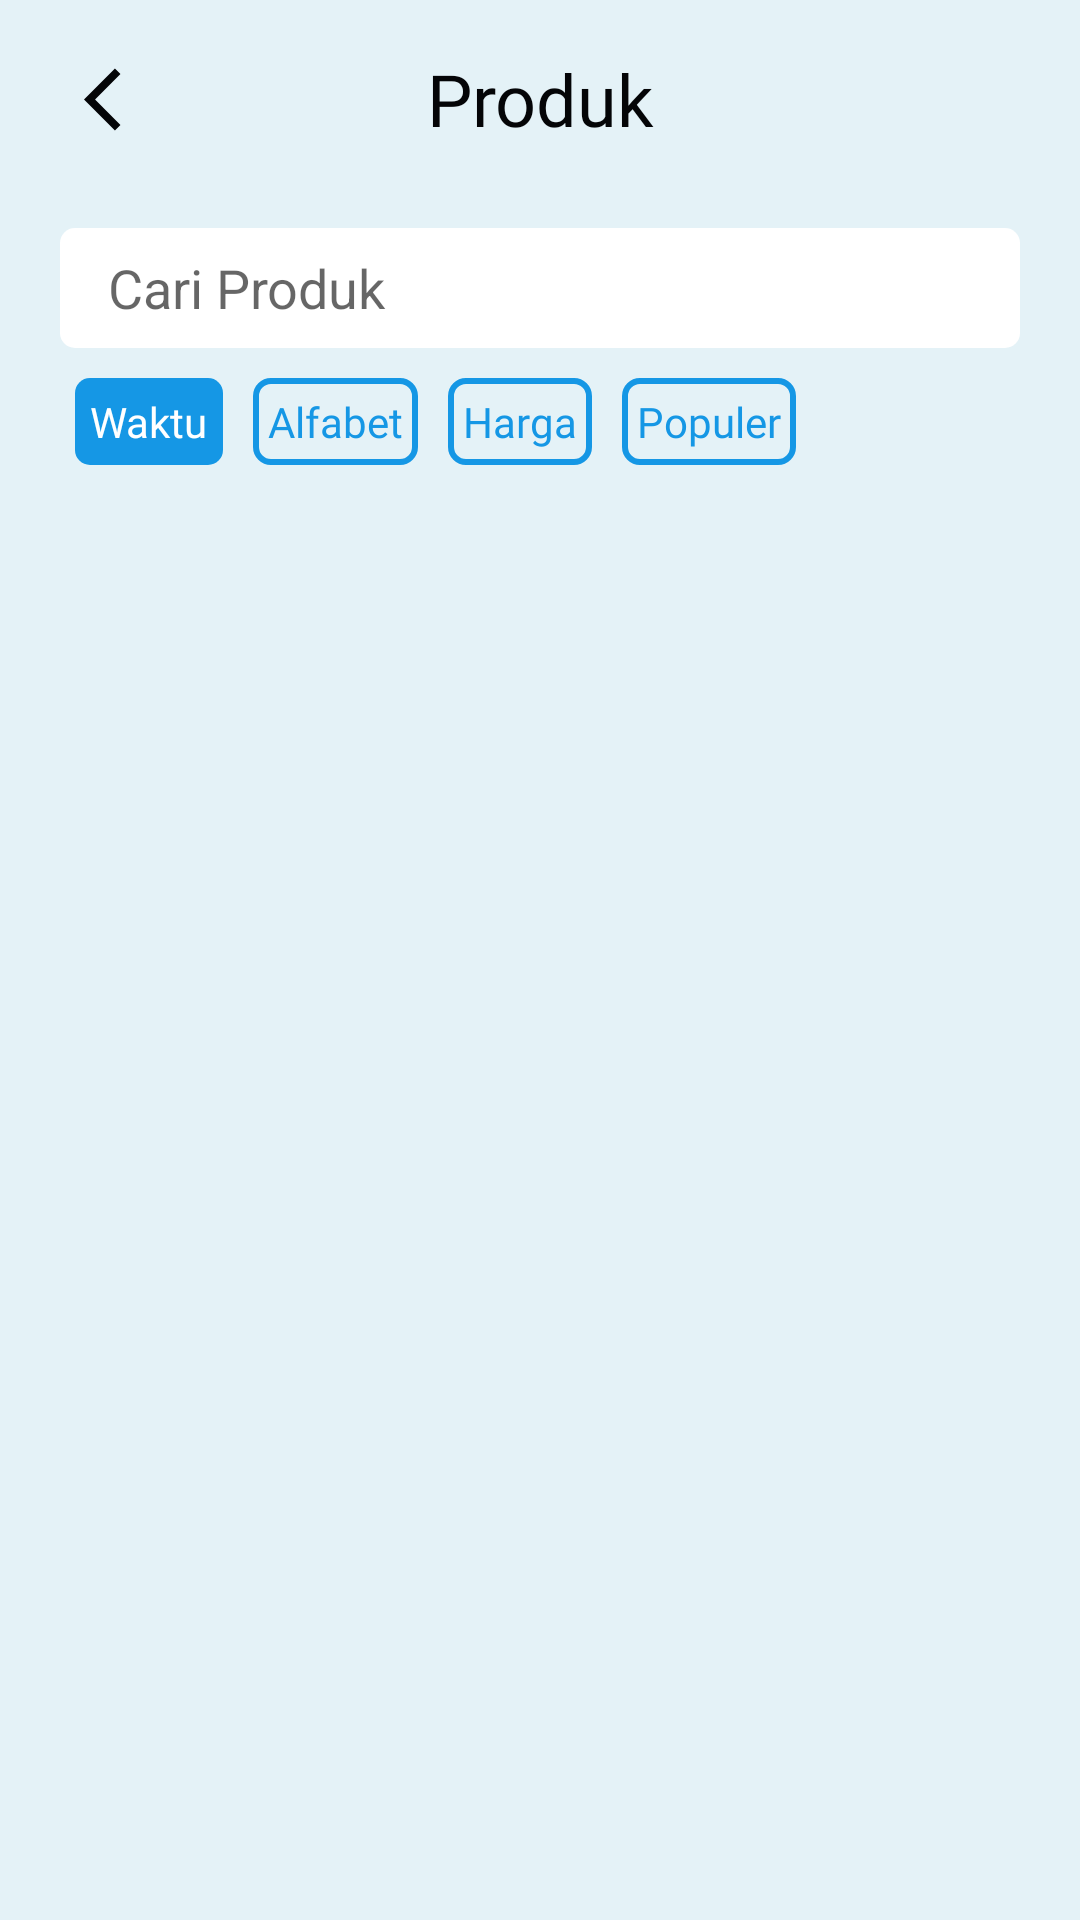

Where to tap for icons on this 1080px x 1920px app screen, as [x,y]:
back: [102,99]
